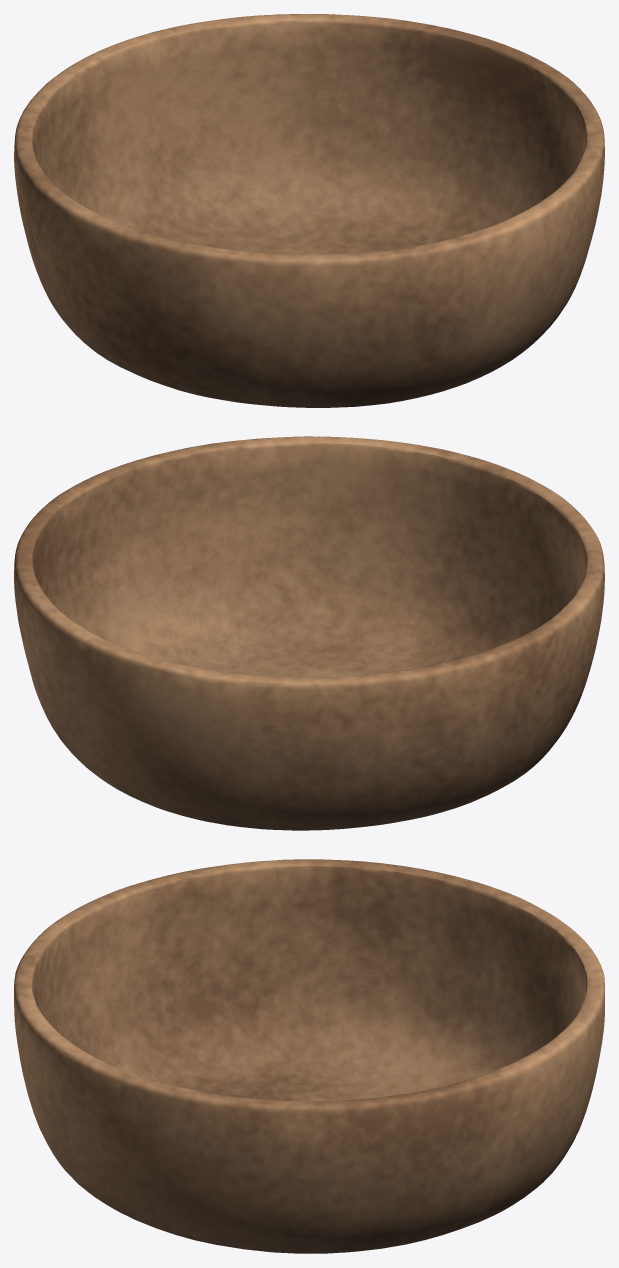
File: stone-basin-v002.glb
3 views of the same model, one above another, from view 1: azimuth 30°, elevation 25°; view 2: azimuth 150°, elevation 25°; view 3: azimuth 270°, elevation 25° (orthographic).
Visible parts, largest first — view 1: stone-basin; view 2: stone-basin; view 3: stone-basin.
Part boxes in pixels (x1=…): stone-basin: x1=14, y1=14, x2=604, y2=407; stone-basin: x1=14, y1=436, x2=604, y2=830; stone-basin: x1=14, y1=859, x2=604, y2=1253.
Bounding box in the file's own units: 1.16 × 0.4 × 1.16.
Materials: 1 (1 with a texture image).
